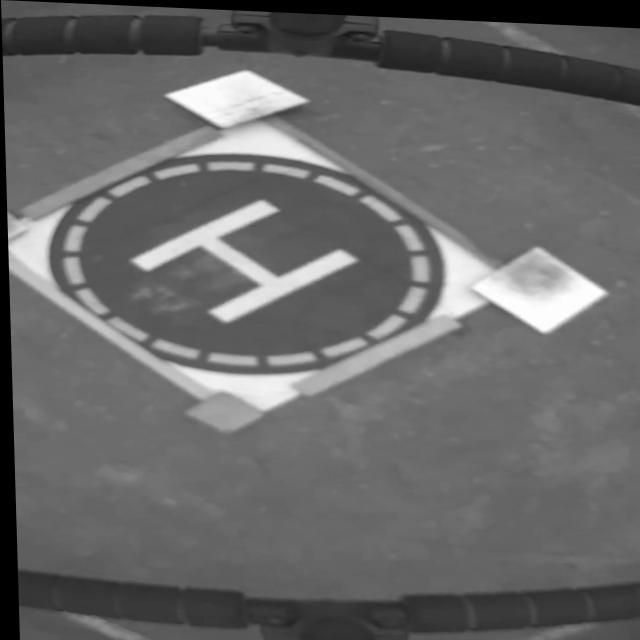Helipad: (128, 196, 356, 322)
